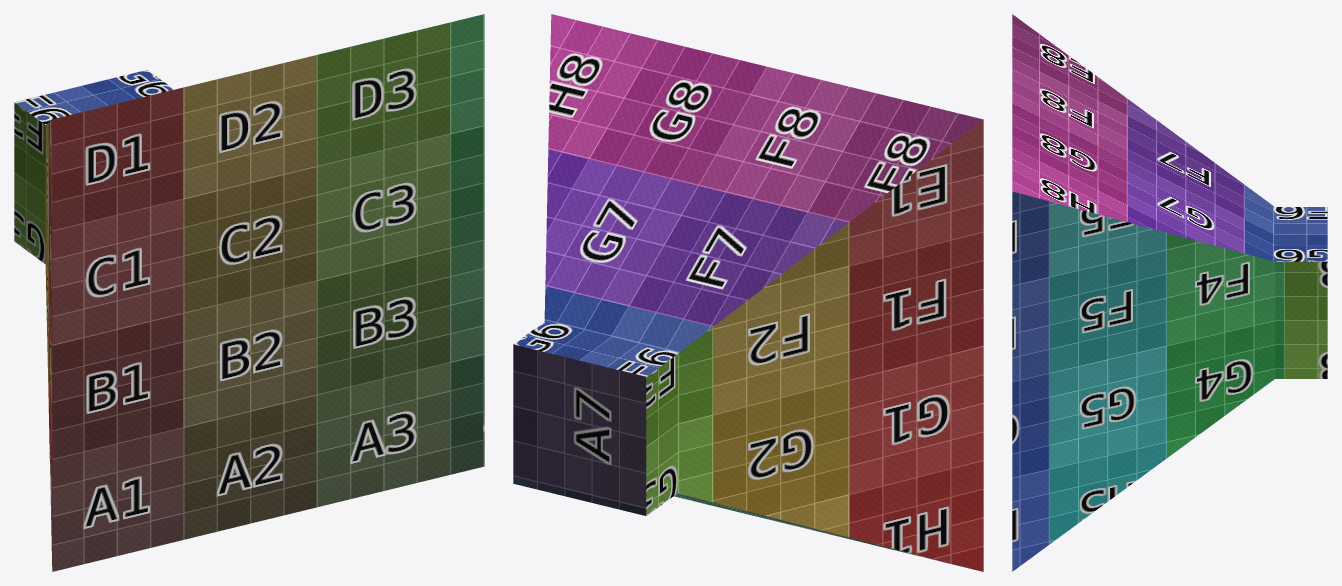
The model's file is debug_camera_mesh.obj.
3 views of the same model, side by side, from view 1: azimuth 30°, elevation 25°; view 2: azimuth 150°, elevation 25°; view 3: azimuth 270°, elevation 25° (orthographic). The views are drawn at different scales.
Parts seen in each view (by area): view 1: Cube_Cube.001; view 2: Cube_Cube.001; view 3: Cube_Cube.001.
Boxes of the visible parts, <box> form: Cube_Cube.001: <box>14,14,484,571</box>; Cube_Cube.001: <box>513,14,983,571</box>; Cube_Cube.001: <box>1012,14,1327,571</box>.
Bounding box in the file's own units: 0.3194 × 0.3194 × 0.24.
Materials: 1 (1 with a texture image).
